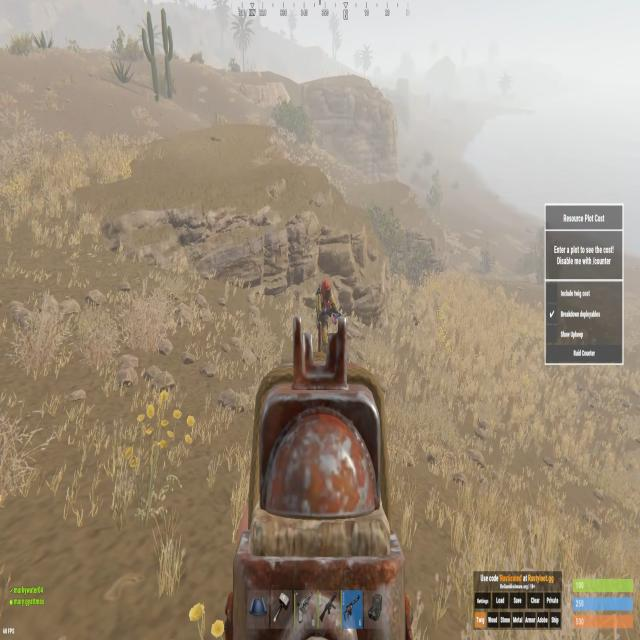Player: (316, 278, 338, 354)
